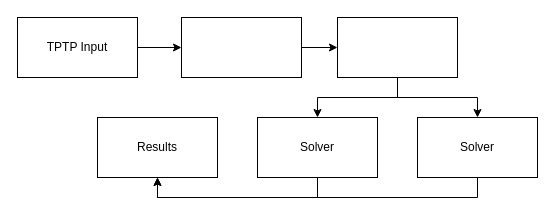
Image size: 555x223. Some labels were removed from this diagram. The box of each missing label's shape, as (x1, y1, x2, y2) in pixels:
CNF + Unification: (336, 16, 458, 78)
Parser: (180, 16, 302, 78)
